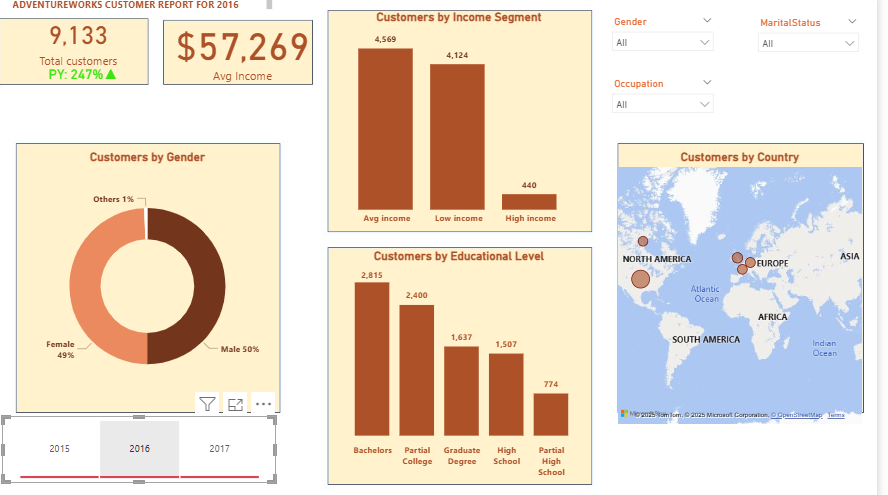

Layout of this report page (visuals, bound fields, positions):
{"tool":"powerbi","page":{"name":"CUSTOMER REPORT","canvas":[1280,720],"ordinal":0},"visuals":[{"type":"qnaVisual","box":[11.4,98.7,24.1,211.4],"z":0},{"type":"card","fields":{"Values":["DAX MEASURES.Total customers"]},"box":[35.6,0,227.8,128.9],"z":1000},{"type":"slicer","fields":{"Values":["Calendar.Year"]},"box":[41.1,596.7,388.3,95],"z":2000},{"type":"card","fields":{"Values":["DAX MEASURES.Avg Income"]},"box":[263.3,24.4,236.7,104.4],"z":3000},{"type":"card","fields":{"Values":["AdventureWorks _Sales.Customer Growth %"]},"box":[77.8,94.4,156.7,34.4],"z":4000},{"type":"columnChart","title":"Customers by Income Segment","fields":{"Y":["DAX MEASURES.Total customers"],"Category":["AdventureWorks_Customers - AdventureWorks_Customers (1).IncomeSegment"]},"box":[500.3,21.3,377,313.2],"z":5000},{"type":"columnChart","title":"Customers by Educational Level","fields":{"Category":["AdventureWorks_Customers - AdventureWorks_Customers (1).Educationa lLevel"],"Y":["DAX MEASURES.Total customers"]},"box":[501.7,360,374.2,331.7],"z":6000},{"type":"donutChart","title":"Customers by Gender","fields":{"Category":["AdventureWorks_Customers - AdventureWorks_Customers (1).Gender"],"Y":["DAX MEASURES.Total customers"]},"box":[65.2,219.7,364.3,367.1],"z":7000},{"type":"slicer","fields":{"Values":["AdventureWorks_Customers - AdventureWorks_Customers (1).Gender"]},"box":[895.7,24.1,164.4,70.9],"z":8000},{"type":"slicer","fields":{"Values":["AdventureWorks_Customers - AdventureWorks_Customers (1).Occupation"]},"box":[895.7,112,164.4,70.9],"z":9000},{"type":"slicer","fields":{"Values":["AdventureWorks_Customers - AdventureWorks_Customers (1).MaritalStatus"]},"box":[1102.7,25.5,163,75.1],"z":10000},{"type":"textbox","box":[51,0,378.4,25.5],"z":11000},{"type":"actionButton","box":[0,0,100,40],"z":12000},{"type":"map","title":"Customers by Country","fields":{"Category":["AdventureWorks_Territories - AdventureWorks_Territories.Country"],"Size":["DAX MEASURES.Total customers"]},"box":[908.5,219.7,357.2,392.6],"z":13000}]}

Visuals, with their boxes in screenshot pixels (x1, y1, x2, y2), scaled from the page's 1280x720 canvas onto the 888x495 screenshot:
qnaVisual: locate(8, 68, 25, 213)
card - DAX MEASURES.Total customers: locate(25, 0, 183, 89)
slicer - Calendar.Year: locate(29, 410, 298, 476)
card - DAX MEASURES.Avg Income: locate(183, 17, 347, 89)
card - AdventureWorks _Sales.Customer Growth %: locate(54, 65, 163, 89)
"Customers by Income Segment" columnChart: locate(347, 15, 609, 230)
"Customers by Educational Level" columnChart: locate(348, 248, 608, 476)
"Customers by Gender" donutChart: locate(45, 151, 298, 403)
slicer - AdventureWorks_Customers - AdventureWorks_Customers (1).Gender: locate(621, 17, 735, 65)
slicer - AdventureWorks_Customers - AdventureWorks_Customers (1).Occupation: locate(621, 77, 735, 126)
slicer - AdventureWorks_Customers - AdventureWorks_Customers (1).MaritalStatus: locate(765, 18, 878, 69)
textbox: locate(35, 0, 298, 18)
actionButton: locate(0, 0, 69, 28)
"Customers by Country" map: locate(630, 151, 878, 421)
